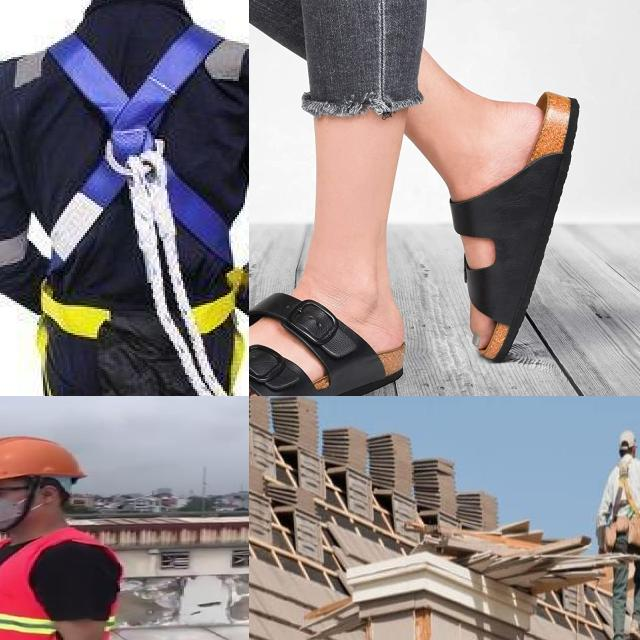Harness: (35, 23, 245, 396), (607, 458, 640, 560)
No_Ear-Protection: (35, 479, 67, 510)
Sandals: (438, 87, 580, 359), (249, 250, 410, 396)
head_helmet: (0, 434, 89, 486)
person: (0, 429, 153, 640)
vest: (0, 531, 115, 640)
